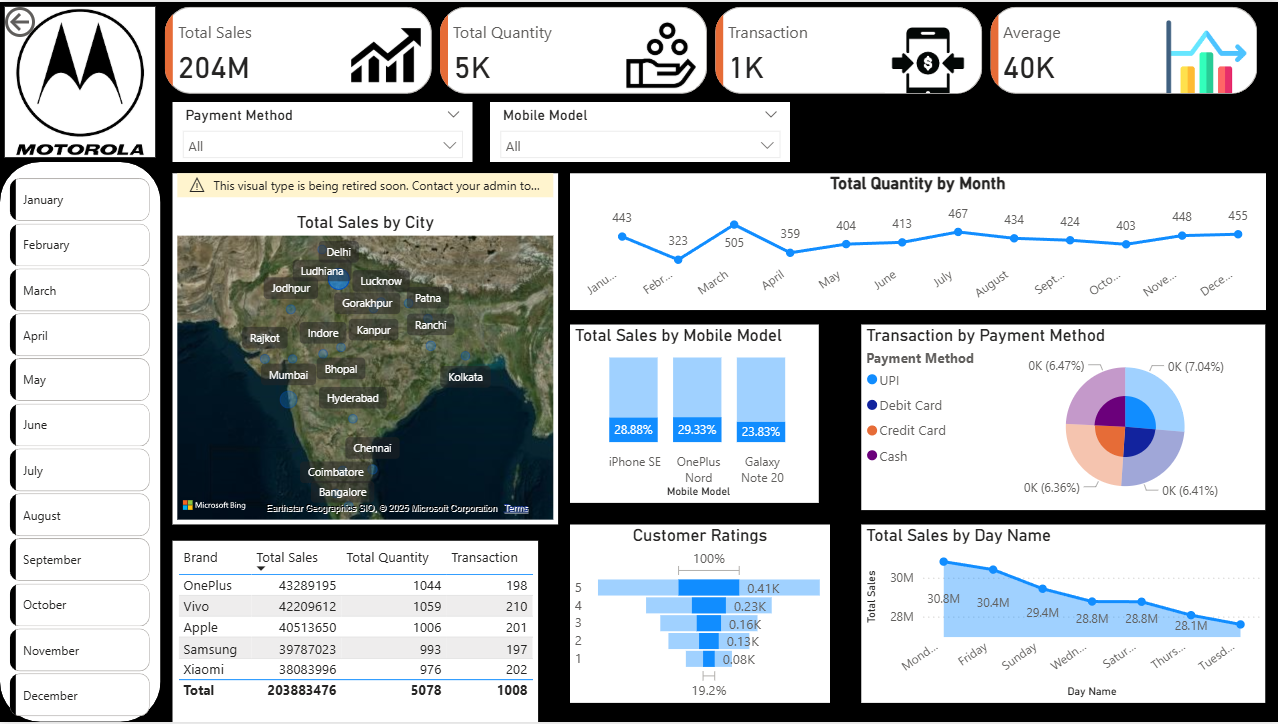

Layout of this report page (visuals, bound fields, positions):
{"tool":"powerbi","page":{"name":"Page 1","canvas":[1280,720],"ordinal":0},"visuals":[{"type":"image","box":[0,0,160.5,160.5],"z":0},{"type":"shape","box":[0,160.5,160.5,559.9],"z":1000},{"type":"advancedSlicerVisual","fields":{"Values":["Sales_data.Date.Variation.Date Hierarchy.Month"]},"box":[5,171.2,150,548.8],"z":2000},{"type":"cardVisual","fields":{"Data":["Sales_data.Total Sales","Sales_data.Total Quantity","Sales_data.Transaction","Sales_data.Average"]},"box":[160,0,1105.7,97.1],"z":3000},{"type":"map","fields":{"Category":["Sales_data.City"],"Size":["Sales_data.Total Sales"]},"box":[172.9,171.4,385.7,351.4],"z":4000},{"type":"lineChart","fields":{"Y":["Sales_data.Total Quantity"],"Category":["Sales_data.Date.Variation.Date Hierarchy.Month","Sales_data.Date.Variation.Date Hierarchy.Day"]},"box":[570,171.4,695.7,137.1],"z":5000},{"type":"hundredPercentStackedColumnChart","fields":{"Category":["Sales_data.Mobile Model"],"Y":["Sales_data.Total Sales"]},"box":[570,322.9,248.6,178.6],"z":6000},{"type":"pieChart","fields":{"Category":["Sales_data.Payment Method"],"Y":["Sales_data.Transaction"]},"box":[861.4,322.9,404.3,185.7],"z":7000},{"type":"funnel","title":"Customer Ratings ","fields":{"Y":["CountNonNull(Sales_data.Customer Ratings)"],"Category":["Sales_data.Customer Ratings"]},"box":[570,522.9,260,178.6],"z":8000},{"type":"actionButton","box":[0,0,100,40],"z":9000},{"type":"stackedAreaChart","fields":{"Category":["Sales_data.Day Name"],"Y":["Sales_data.Total Sales"]},"box":[861.4,522.9,404.3,178.6],"z":9001},{"type":"tableEx","fields":{"Values":["Sales_data.Brand","Sales_data.Total Sales","Sales_data.Total Quantity","Sales_data.Transaction"]},"box":[172.9,538.6,365.7,181.4],"z":9002},{"type":"slicer","fields":{"Values":["Sales_data.Payment Method"]},"box":[172.9,100,300,60],"z":9003},{"type":"slicer","fields":{"Values":["Sales_data.Mobile Model"]},"box":[490,100,300,60],"z":9004}]}

Visuals, with their boxes in screenshot pixels (x1, y1, x2, y2), scaled from the page's 1280x720 canvas onto the 1278x724 screenshot:
image: (0,0,160,161)
shape: (0,161,160,723)
advancedSlicerVisual - Sales_data.Date.Variation.Date Hierarchy.Month: (5,172,155,723)
cardVisual - Sales_data.Total Sales x Sales_data.Total Quantity: (160,0,1264,98)
map - Sales_data.City x Sales_data.Total Sales: (173,172,558,526)
lineChart - Sales_data.Total Quantity x Sales_data.Date.Variation.Date Hierarchy.Month: (569,172,1264,310)
hundredPercentStackedColumnChart - Sales_data.Mobile Model x Sales_data.Total Sales: (569,325,817,504)
pieChart - Sales_data.Payment Method x Sales_data.Transaction: (860,325,1264,511)
"Customer Ratings " funnel: (569,526,829,705)
actionButton: (0,0,100,40)
stackedAreaChart - Sales_data.Day Name x Sales_data.Total Sales: (860,526,1264,705)
tableEx - Sales_data.Brand x Sales_data.Total Sales: (173,542,538,723)
slicer - Sales_data.Payment Method: (173,101,472,161)
slicer - Sales_data.Mobile Model: (489,101,789,161)
